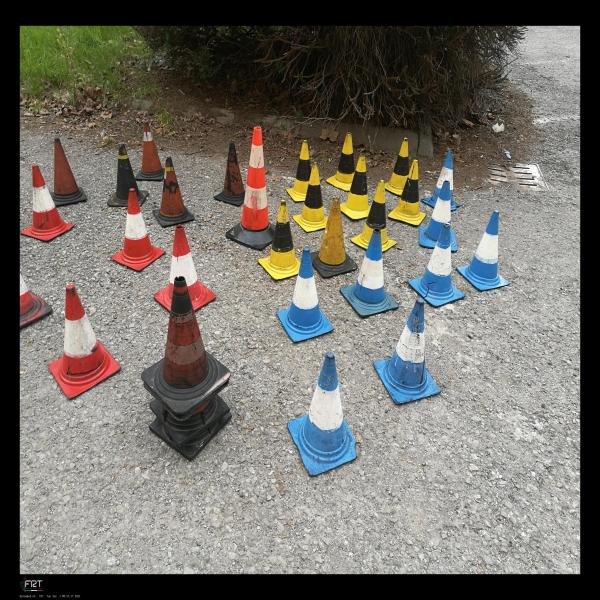blue_cone: (287, 352, 357, 476), (373, 298, 441, 405), (276, 248, 334, 342), (340, 228, 399, 318), (408, 222, 466, 308), (456, 210, 510, 291), (420, 180, 458, 252), (421, 150, 460, 212)
large_orange_cone: (226, 126, 276, 250)
orange_cone: (48, 285, 121, 399), (154, 225, 216, 312), (110, 188, 166, 271), (20, 164, 76, 242), (20, 272, 52, 328)
unknown_cone: (141, 276, 231, 415), (310, 195, 358, 278), (152, 157, 195, 227), (107, 142, 149, 207), (50, 137, 87, 206), (213, 142, 245, 206), (135, 121, 165, 181)
yellow_cone: (350, 179, 397, 252), (258, 200, 300, 280), (292, 162, 328, 233), (388, 159, 426, 226), (340, 154, 371, 220), (326, 132, 355, 192), (286, 140, 311, 202), (385, 138, 409, 196)
